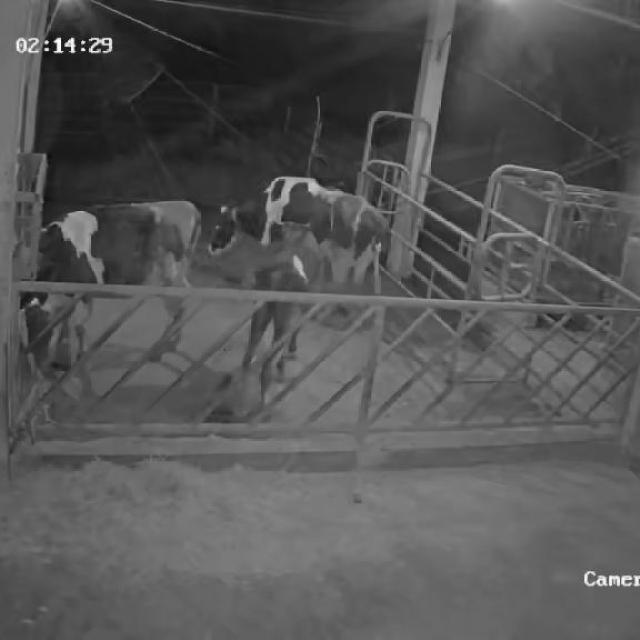drinking: (5, 195, 203, 372)
standing: (200, 171, 392, 327), (228, 217, 310, 423)
